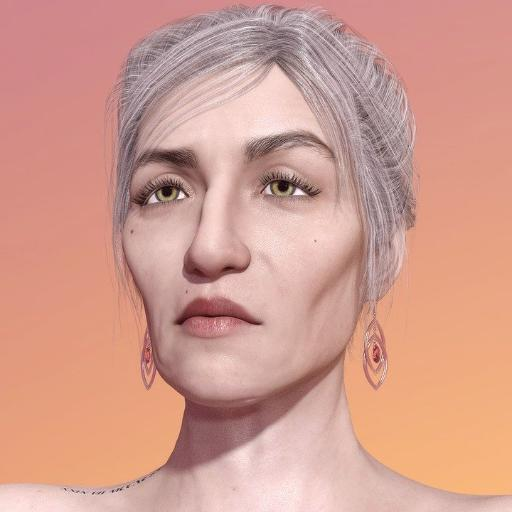left_eye: (260, 175, 319, 206)
left_lip_corner: (250, 316, 274, 334)
right_eye: (137, 182, 193, 212)
right_lip_corner: (171, 315, 188, 335)
